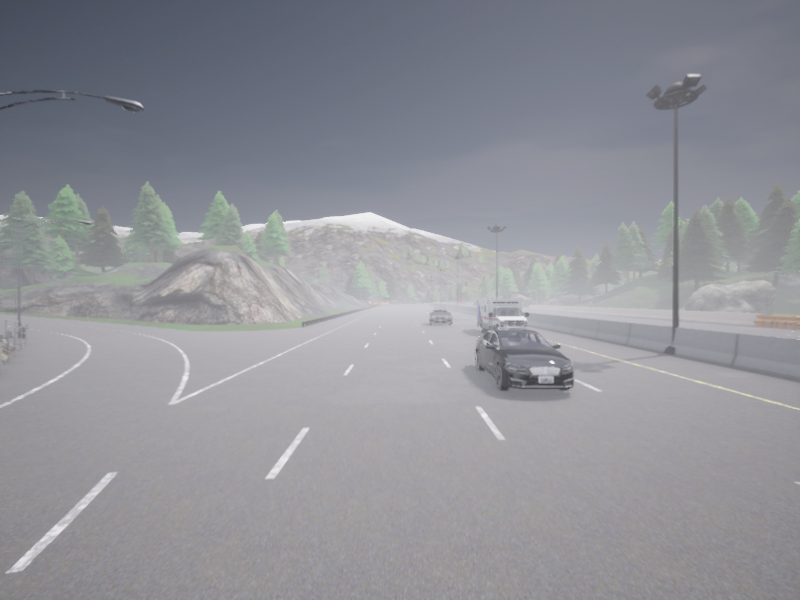vehicle: (475, 328, 573, 390), (476, 299, 528, 332), (429, 308, 451, 325), (459, 300, 465, 303)
